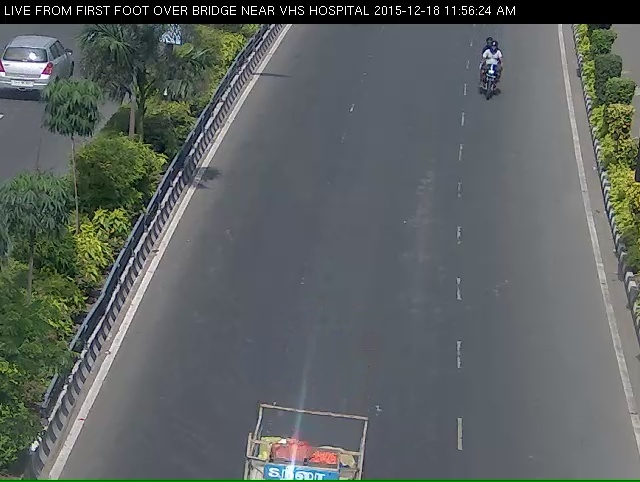Person: (470, 40, 510, 117)
